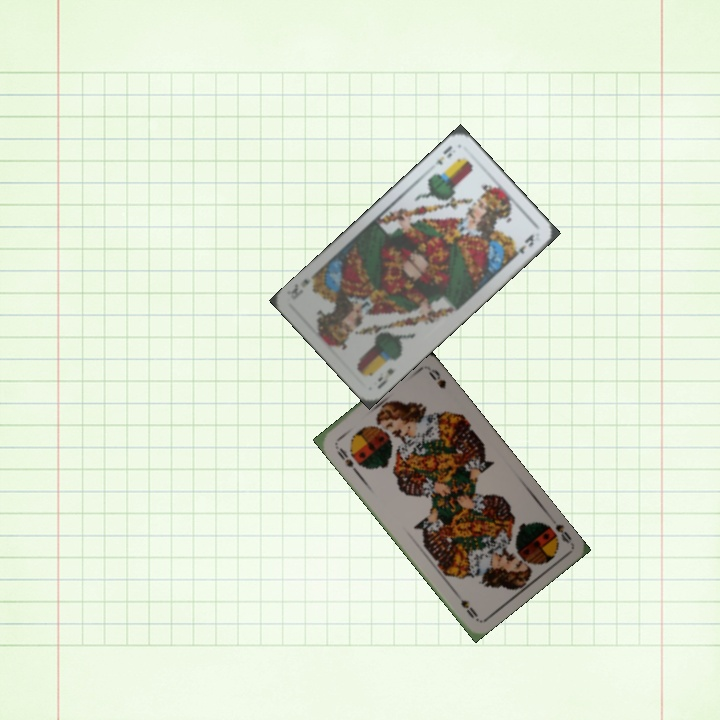EK: (425, 142, 455, 171), (373, 364, 397, 391)
SO: (538, 517, 574, 546), (331, 440, 360, 475)
